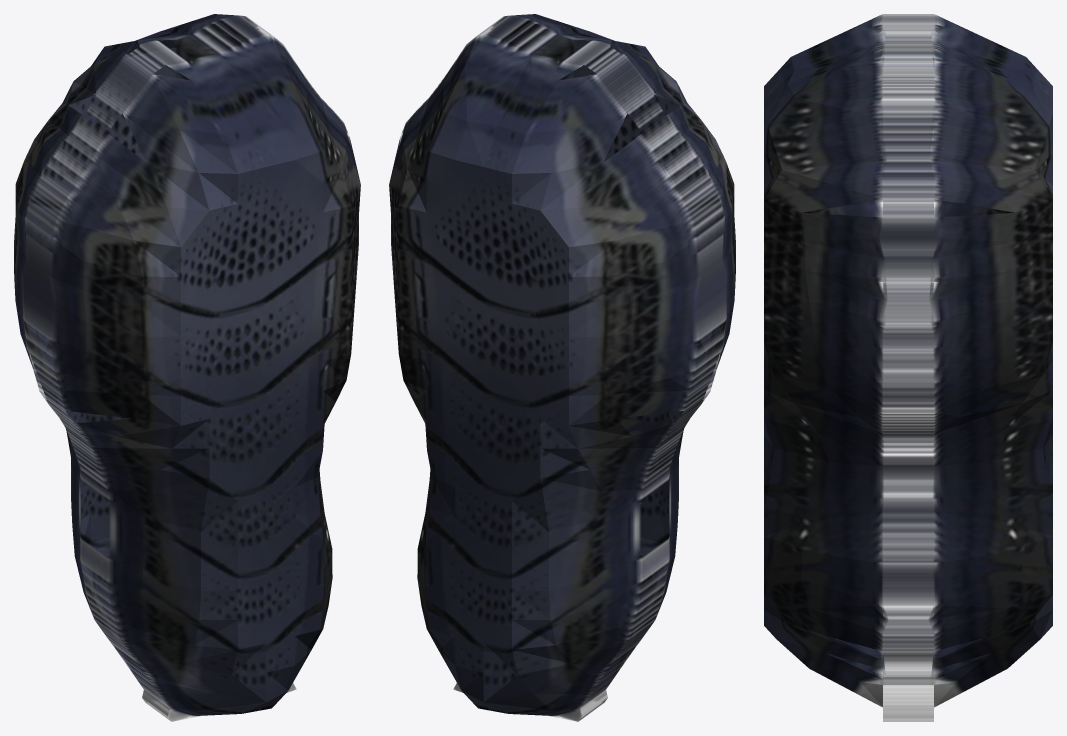
Rendered from randg-vector-back-protector-146.glb.
3 renders of one model, left to right at view 1: azimuth 30°, elevation 25°; view 2: azimuth 150°, elevation 25°; view 3: azimuth 270°, elevation 25°, orthographic.
Parts seen in each view (by area): view 1: world; view 2: world; view 3: world.
Boxes of the visible parts, bbox=[...] form: world: bbox=[14, 14, 360, 721]; world: bbox=[389, 14, 735, 721]; world: bbox=[764, 14, 1052, 721].
Size of the model in its own units: 0.4702 by 1 by 0.4.
1 material, 1 textured.
